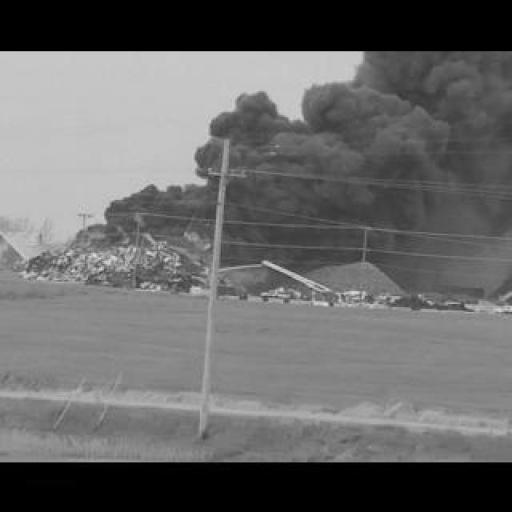smoke: (130, 50, 510, 230), (85, 210, 133, 248), (179, 219, 218, 258)
